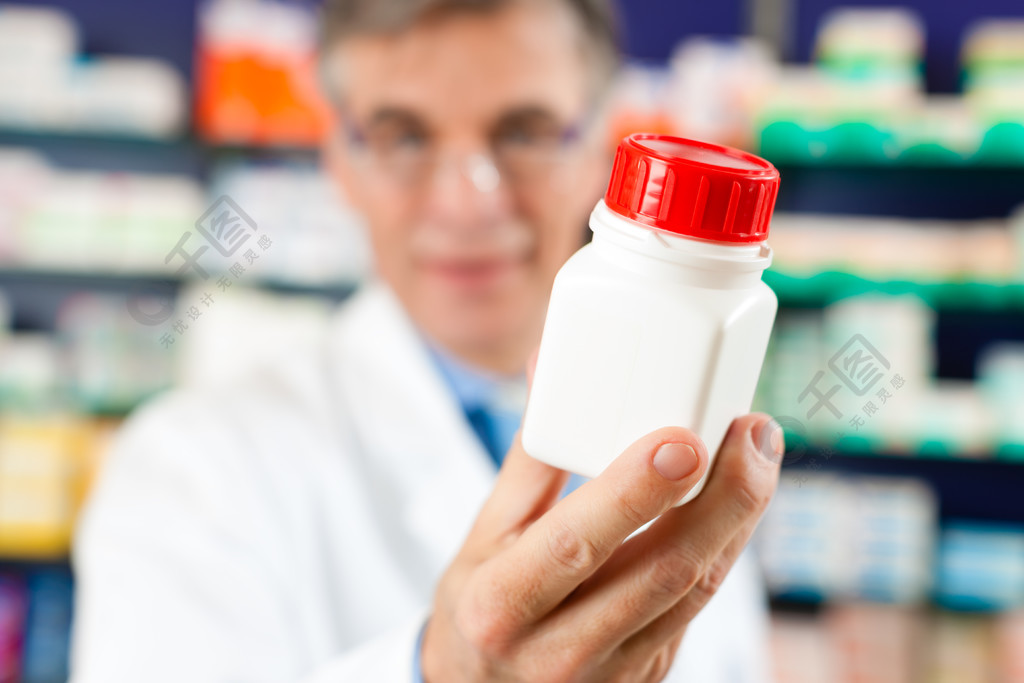no-phone: (425, 113, 797, 681)
